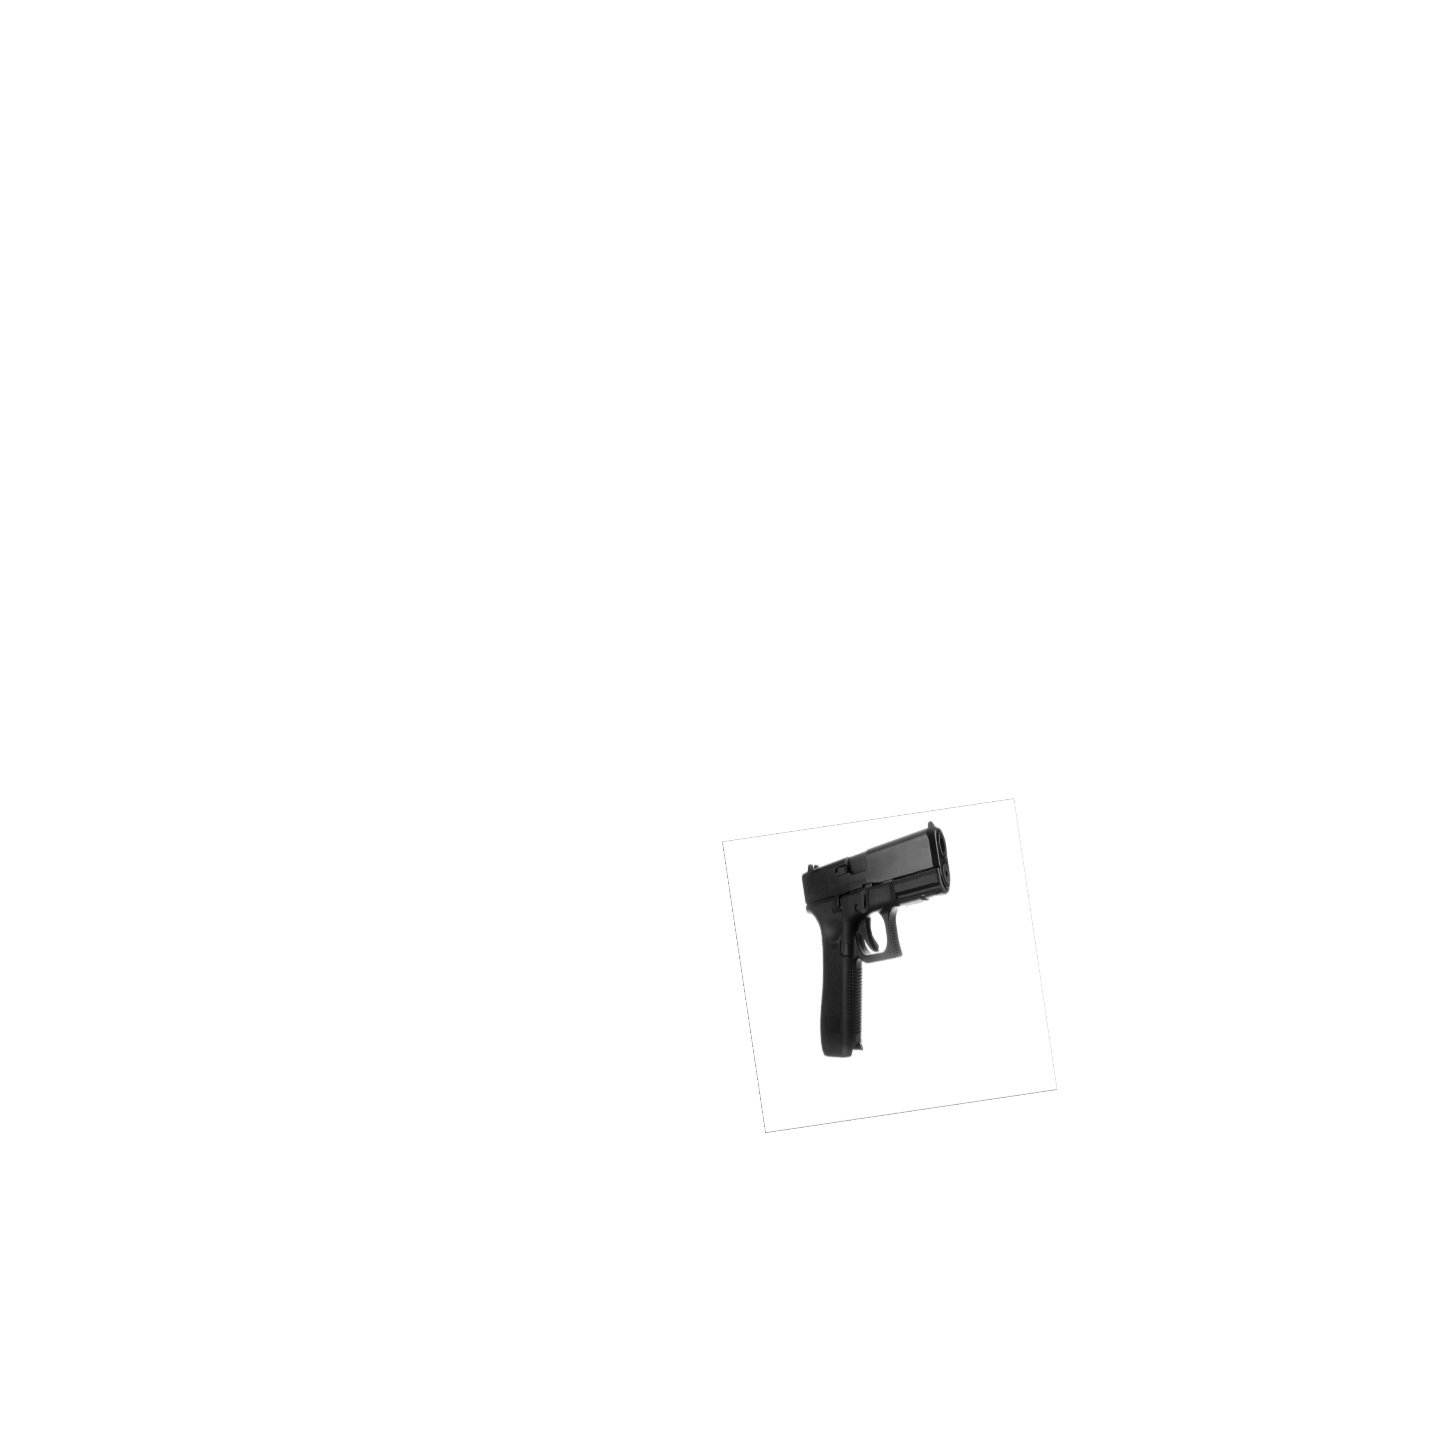gun: (794, 819, 955, 1061)
